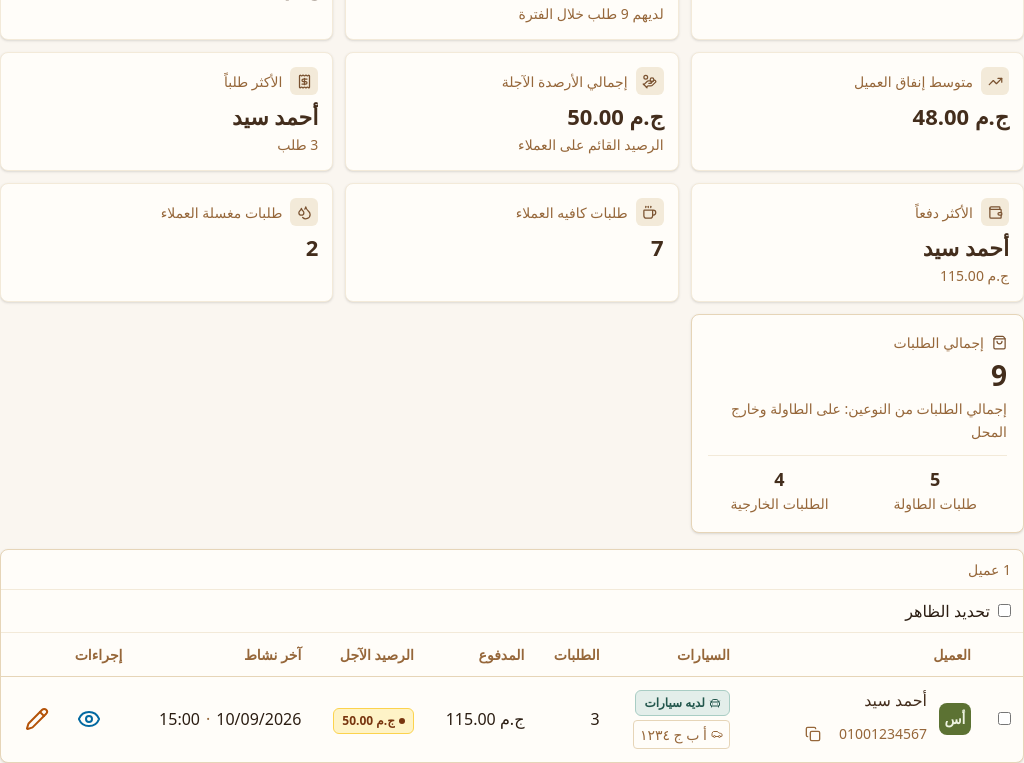
Test: CustomersPage — manager (customer intelligence) › shows the activity columns and opens the details drawer with its statistics
The image size is (1024, 763).
(page scrolled)
Expected: the column heading "المدفوع" is shown, x1=426 y1=633 x2=536 y2=677
Expected: the column heading "الرصيد الآجل" is shown, x1=313 y1=633 x2=426 y2=677
Click the button named "تفاصيل أحمد سيد" at [89, 719], box x1=65 y1=695 x2=113 y2=743
(page scrolled)
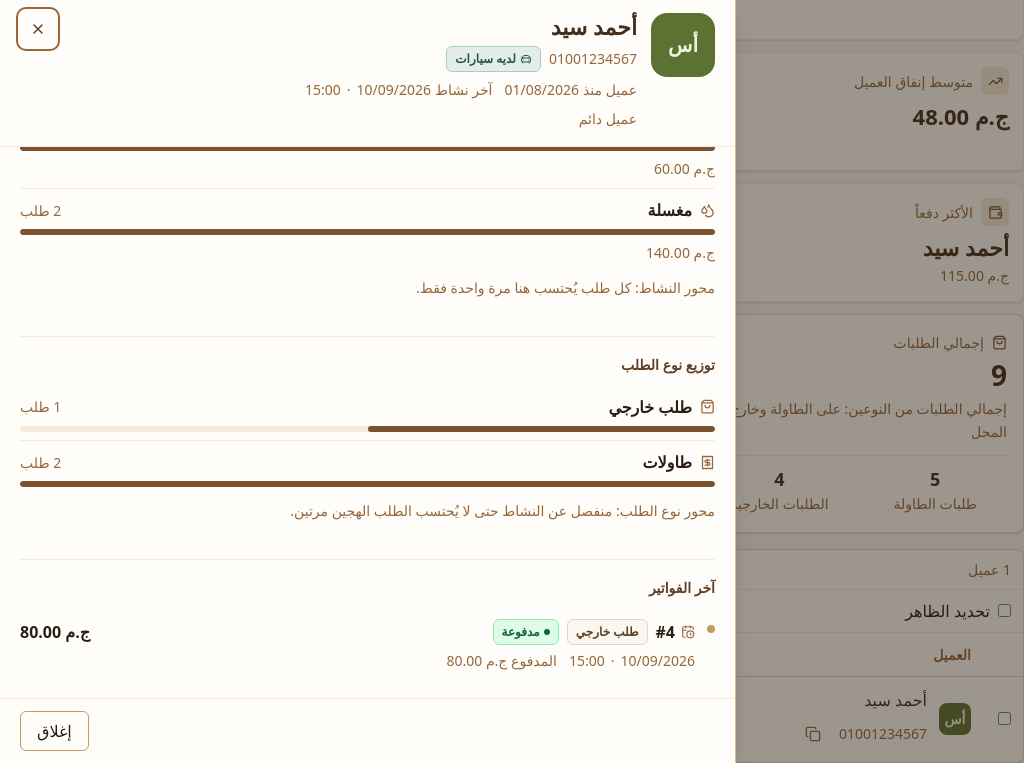
Result: the heading "توزيع نوع الطلب" is shown at x1=621 y1=355 x2=715 y2=374
Result: the heading "آخر الفواتير" is shown at x1=649 y1=578 x2=715 y2=596
Result: the text "#4" is shown at x1=656 y1=619 x2=675 y2=645
